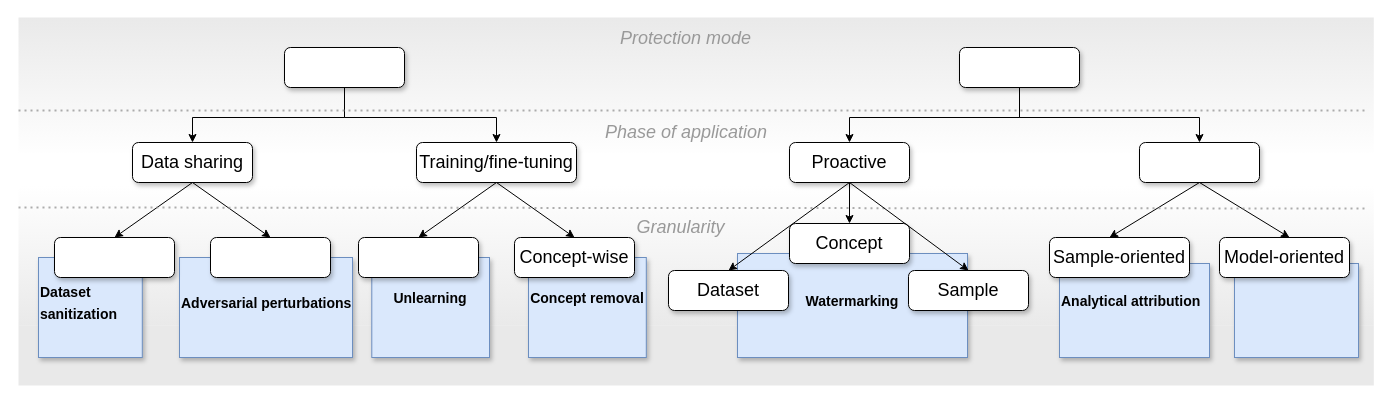
Some shapes in this 1395 by 402 pixel diagram are drawn without their labels. Here are the shapes that lost their labels. From the top down, the centre of each, then its label:
At point 345,68: "Prevention".
At point 1020,68: "Detection".
At point 1200,164: "Reactive".
At point 115,258: "Dataset-level".
At point 271,258: "Sample-level".
At point 419,258: "Sample-wise".
At point 1297,311: "Testing memorisation".
